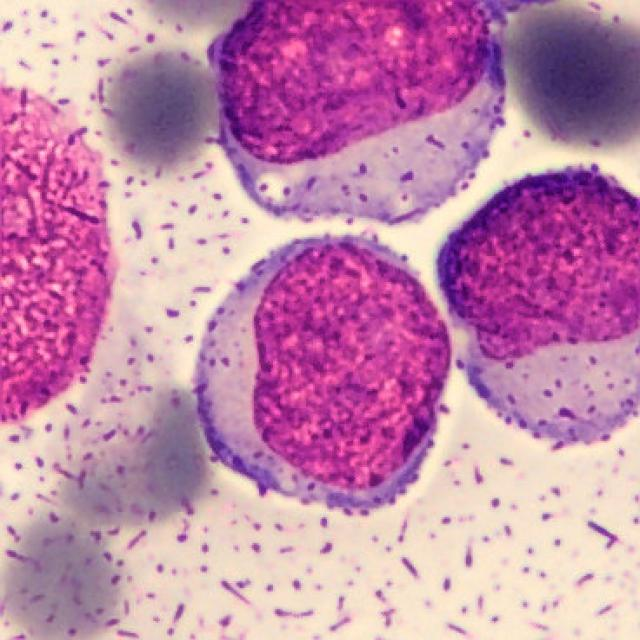Mieloblasto: (193, 244, 452, 515), (210, 0, 506, 223), (437, 168, 640, 445)
